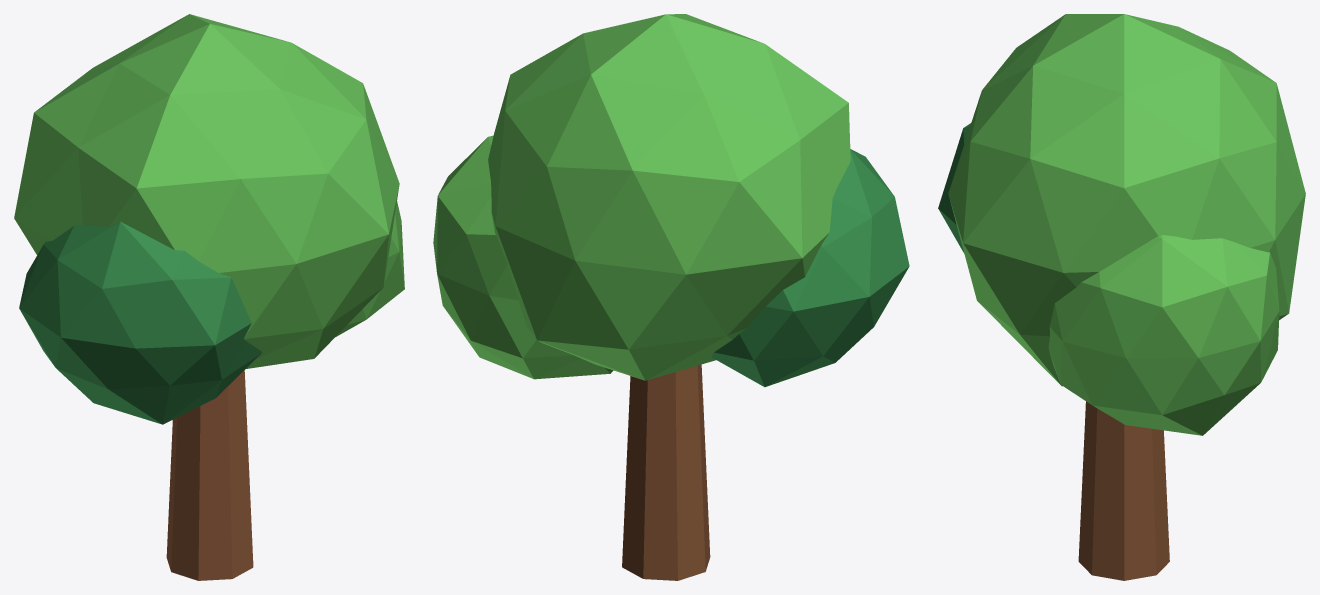
File: Prop_Garden_Tree.fbx
3 views of the same model, side by side, from view 1: azimuth 30°, elevation 25°; view 2: azimuth 150°, elevation 25°; view 3: azimuth 270°, elevation 25° (orthographic).
Parts seen in each view (by area): view 1: Prop_Garden_Tree; view 2: Prop_Garden_Tree; view 3: Prop_Garden_Tree.
Boxes of the visible parts, x1,y1,x2,y2 form: Prop_Garden_Tree: (14,14,404,580); Prop_Garden_Tree: (433,14,909,580); Prop_Garden_Tree: (938,14,1305,580).
Bounding box in the file's own units: 1.81 × 2.38 × 1.45.
